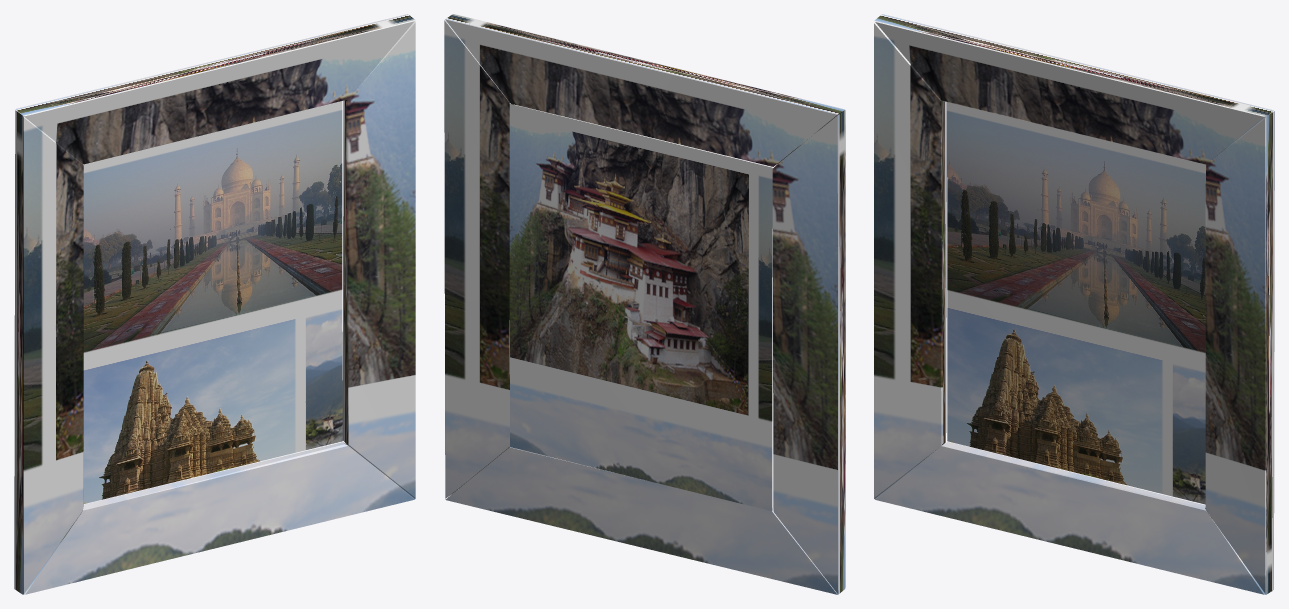
The model's file is Picture 1.FBX.
3 views of the same model, side by side, from view 1: azimuth 30°, elevation 25°; view 2: azimuth 150°, elevation 25°; view 3: azimuth 330°, elevation 25° (orthographic).
Parts seen in each view (by area): view 1: picture1; view 2: picture1; view 3: picture1.
Boxes of the visible parts, x1,y1,x2,y2 form: picture1: (14,14,415,594); picture1: (444,14,845,594); picture1: (874,14,1274,594).
Size of the model in its own units: 15.35 by 0.6089 by 17.91.
